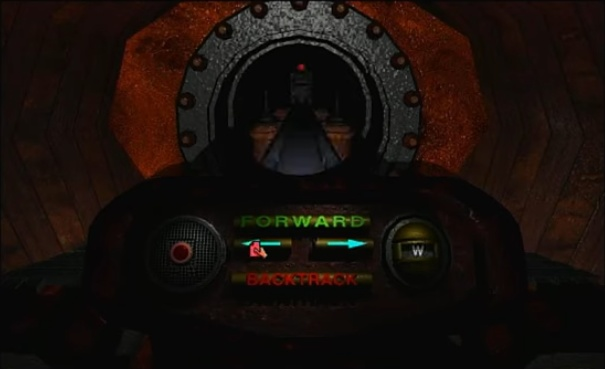Keep: (245, 236, 272, 260)
